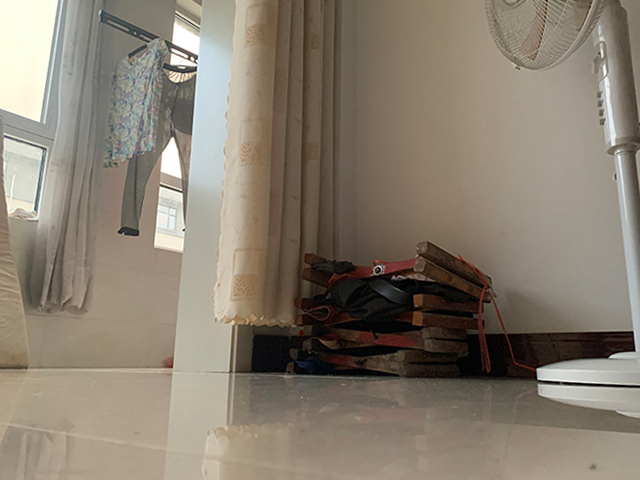curtain: (211, 1, 333, 328), (29, 1, 104, 314)
stool: (285, 241, 494, 378)
